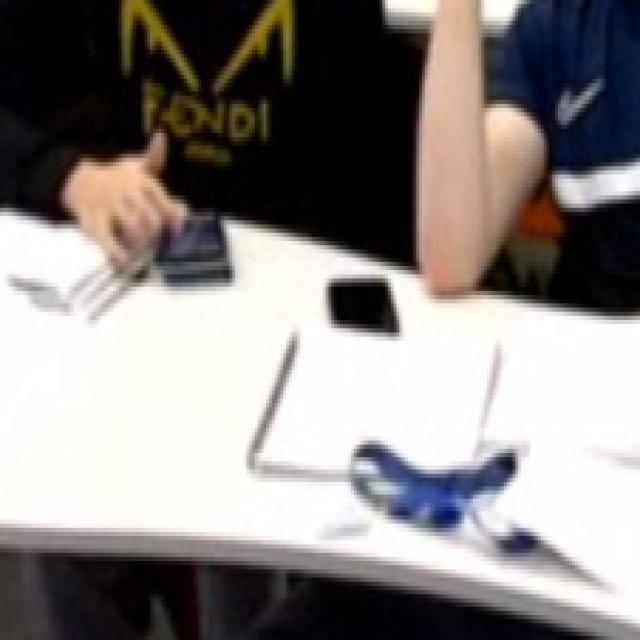phone: (142, 204, 238, 307), (321, 267, 408, 361)
